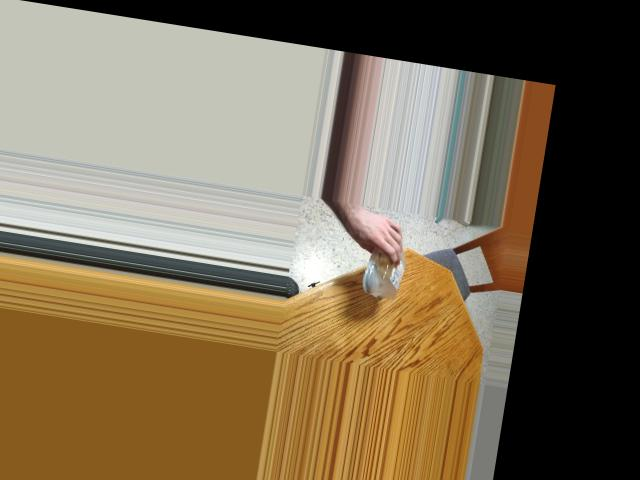cheese: (356, 227, 414, 293)
